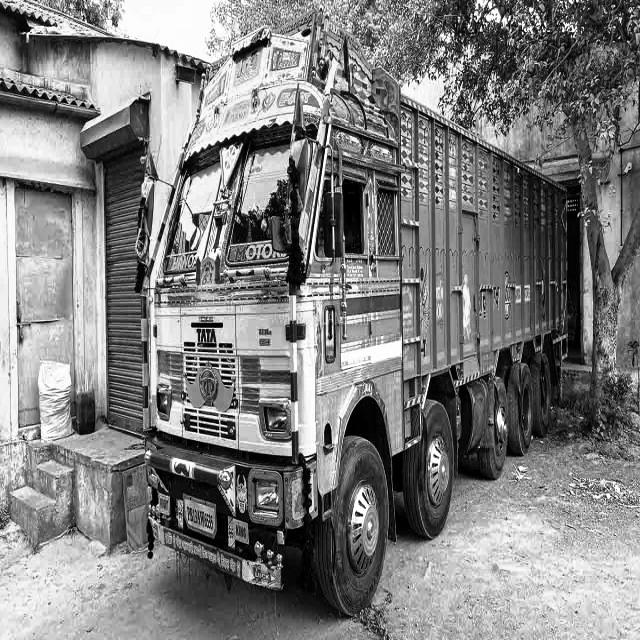HCV: (127, 15, 599, 625)
